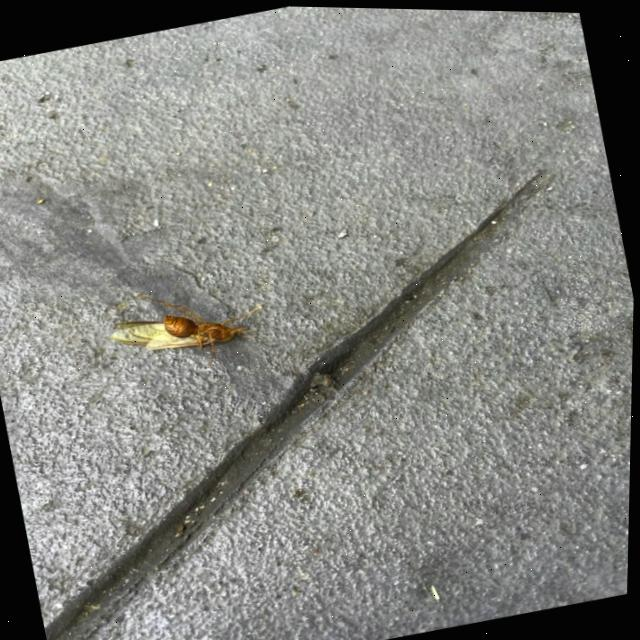Dead-Male-Alate: (105, 260, 277, 376)
